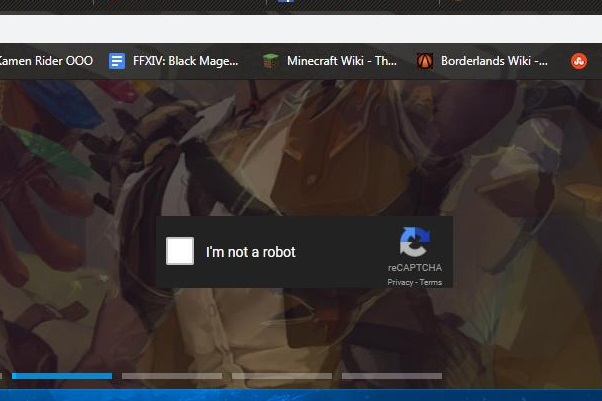captcha: (166, 236, 300, 265)
